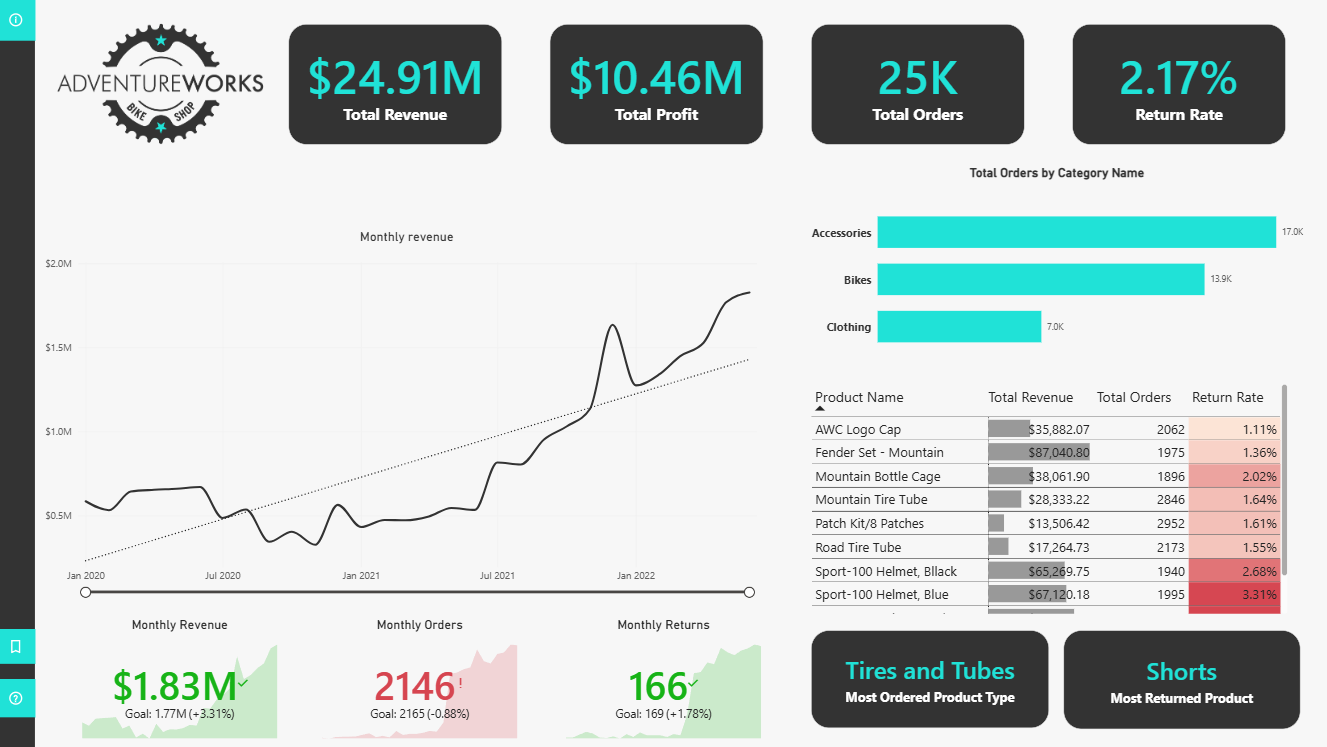

This screenshot's page, from the dashboard's own definition file:
{"tool":"powerbi","page":{"name":"Overview","canvas":[1920,1080],"ordinal":0},"visuals":[{"type":"image","title":"Logo","box":[55.7,0,363.1,244.5],"z":0},{"type":"shape","title":"Black side bar","box":[0,0,55.7,1080.4],"z":1},{"type":"card","title":"total rev ","fields":{"Values":["Measure list.Total Revenue"]},"box":[421.2,36.2,307.3,173.6],"z":2},{"type":"card","title":"total profit","fields":{"Values":["Measure list.Total Profit"]},"box":[796.7,36.2,307.3,173.6],"z":3},{"type":"card","title":"total orders","fields":{"Values":["Measure list.Total Orders"]},"box":[1172.1,36.2,307.3,173.6],"z":4},{"type":"card","title":"return rate","fields":{"Values":["Measure list.Return Rate"]},"box":[1547.6,36.2,307.3,173.6],"z":5},{"type":"barChart","fields":{"Category":["Product Categories Lookup.Category Name"],"Y":["Measure list.Total Orders"]},"box":[1156,224.3,740.3,315.4],"z":6},{"type":"lineChart","title":"Monthly revenue","fields":{"Category":["Calendar Lookup.Start of Month"],"Y":["Measure list.Total Revenue"]},"box":[54.6,316.7,1073.7,558.7],"z":7},{"type":"tableEx","fields":{"Values":["Product Lookup.Product Name","Measure list.Total Revenue","Measure list.Total Orders","Measure list.Return Rate"]},"box":[1155.5,539.3,718,360.7],"z":8},{"type":"card","title":"total rev ","fields":{"Values":["Min(Product Subcategories Lookup.Subcategory Name)"]},"box":[1172.8,907.1,342.6,140.6],"z":9},{"type":"card","title":"total rev ","fields":{"Values":["Min(Product Subcategories Lookup.Subcategory Name)"]},"box":[1535.2,907.1,340.4,142.8],"z":10},{"type":"kpi","title":"Monthly Revenue","fields":{"Goal":["Measure list.LM Reveneue"],"Indicator":["Measure list.Total Revenue"],"TrendLine":["Calendar Lookup.Start of Month"]},"box":[107.4,875.4,313,203.8],"z":11},{"type":"kpi","title":"Monthly Orders","fields":{"Goal":["Measure list.LM Orders"],"Indicator":["Measure list.Total Orders"],"TrendLine":["Calendar Lookup.Start of Month"]},"box":[452.2,875.2,313,203.8],"z":12},{"type":"kpi","title":"Monthly Returns","fields":{"Goal":["Measure list.LM Returns"],"Indicator":["Measure list.Total Returns"],"TrendLine":["Calendar Lookup.Start of Month"]},"box":[804.1,875.2,313,203.8],"z":13},{"type":"actionButton","box":[0,978.5,56.8,55.1],"z":14},{"type":"actionButton","box":[0,0,56.8,60.1],"z":15},{"type":"actionButton","box":[0,906.7,56.8,50.1],"z":16}]}

Visuals, with their boxes on the page's 1920x1080 design canvas (x1, y1, x2, y2). These are canvas units, not pixel positions in the 1327x747 screenshot, which may show the page scaled, cropped or inside an application window:
"Logo" image: left=56, top=0, right=419, bottom=244
"Black side bar" shape: left=0, top=0, right=56, bottom=1080
"total rev " card: left=421, top=36, right=728, bottom=210
"total profit" card: left=797, top=36, right=1104, bottom=210
"total orders" card: left=1172, top=36, right=1479, bottom=210
"return rate" card: left=1548, top=36, right=1855, bottom=210
barChart - Product Categories Lookup.Category Name x Measure list.Total Orders: left=1156, top=224, right=1896, bottom=540
"Monthly revenue" lineChart: left=55, top=317, right=1128, bottom=875
tableEx - Product Lookup.Product Name x Measure list.Total Revenue: left=1156, top=539, right=1874, bottom=900
"total rev " card: left=1173, top=907, right=1515, bottom=1048
"total rev " card: left=1535, top=907, right=1876, bottom=1050
"Monthly Revenue" kpi: left=107, top=875, right=420, bottom=1079
"Monthly Orders" kpi: left=452, top=875, right=765, bottom=1079
"Monthly Returns" kpi: left=804, top=875, right=1117, bottom=1079
actionButton: left=0, top=978, right=57, bottom=1034
actionButton: left=0, top=0, right=57, bottom=60
actionButton: left=0, top=907, right=57, bottom=957
